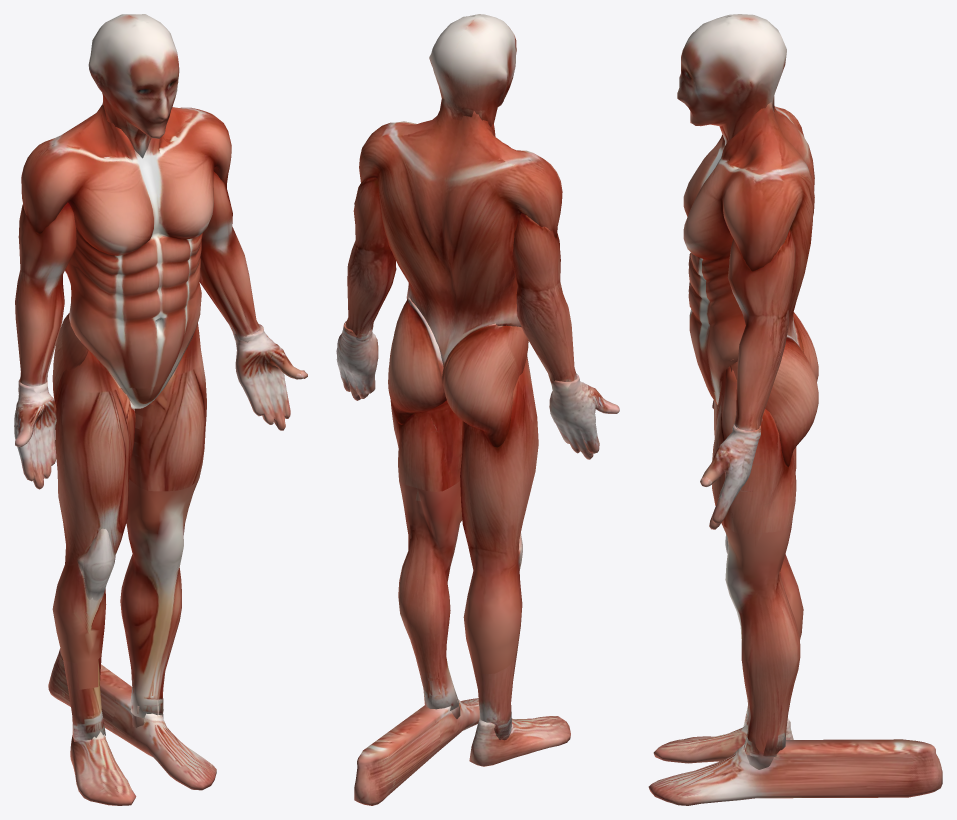
File: muscle.glb
The picture shows the model from 3 angles, left to right: view 1: azimuth 30°, elevation 25°; view 2: azimuth 150°, elevation 25°; view 3: azimuth 270°, elevation 25°; orthographic projection. The views are drawn at different scales.
Parts seen in each view (by area): view 1: part_0; view 2: part_0; view 3: part_0.
Boxes of the visible parts, box(x1,y1,x2,y2) form: part_0: box(14, 14, 307, 805); part_0: box(336, 14, 619, 805); part_0: box(648, 14, 942, 805).
Size of the model in its own units: 0.472 by 1.16 by 0.4059.
1 material, 1 textured.
